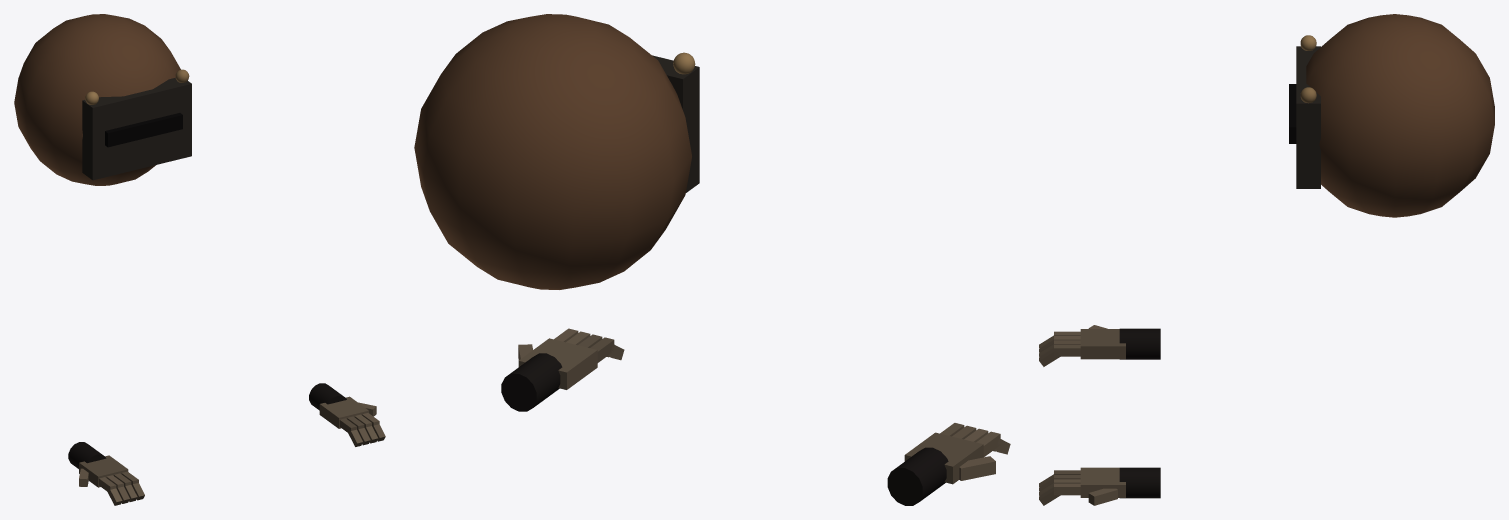
Rendered from entity1.glb.
The picture shows the model from 3 angles, left to right: view 1: azimuth 30°, elevation 25°; view 2: azimuth 150°, elevation 25°; view 3: azimuth 270°, elevation 25°; orthographic projection. The views are drawn at different scales.
Parts seen in each view (by area): view 1: Mask, HandR, HandL; view 2: Mask, HandL, HandR; view 3: Mask, HandR, HandL.
Boxes of the visible parts, left/top/right/bottom form: Mask: left=14, top=14, right=191, bottom=185; HandR: left=309, top=383, right=385, bottom=446; HandL: left=68, top=442, right=144, bottom=505; Mask: left=414, top=14, right=699, bottom=289; HandL: left=887, top=423, right=1010, bottom=505; HandR: left=501, top=328, right=624, bottom=411; Mask: left=1289, top=14, right=1494, bottom=217; HandR: left=1039, top=467, right=1160, bottom=505; HandL: left=1039, top=325, right=1160, bottom=366.
Size of the model in its own units: 1.98 by 2.18 by 2.22.
